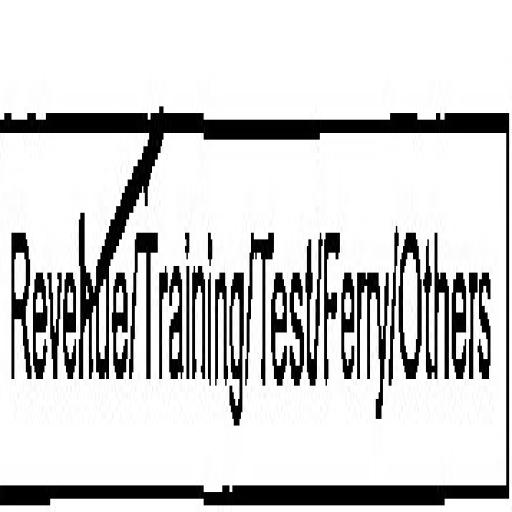check: (0, 29, 135, 511)
